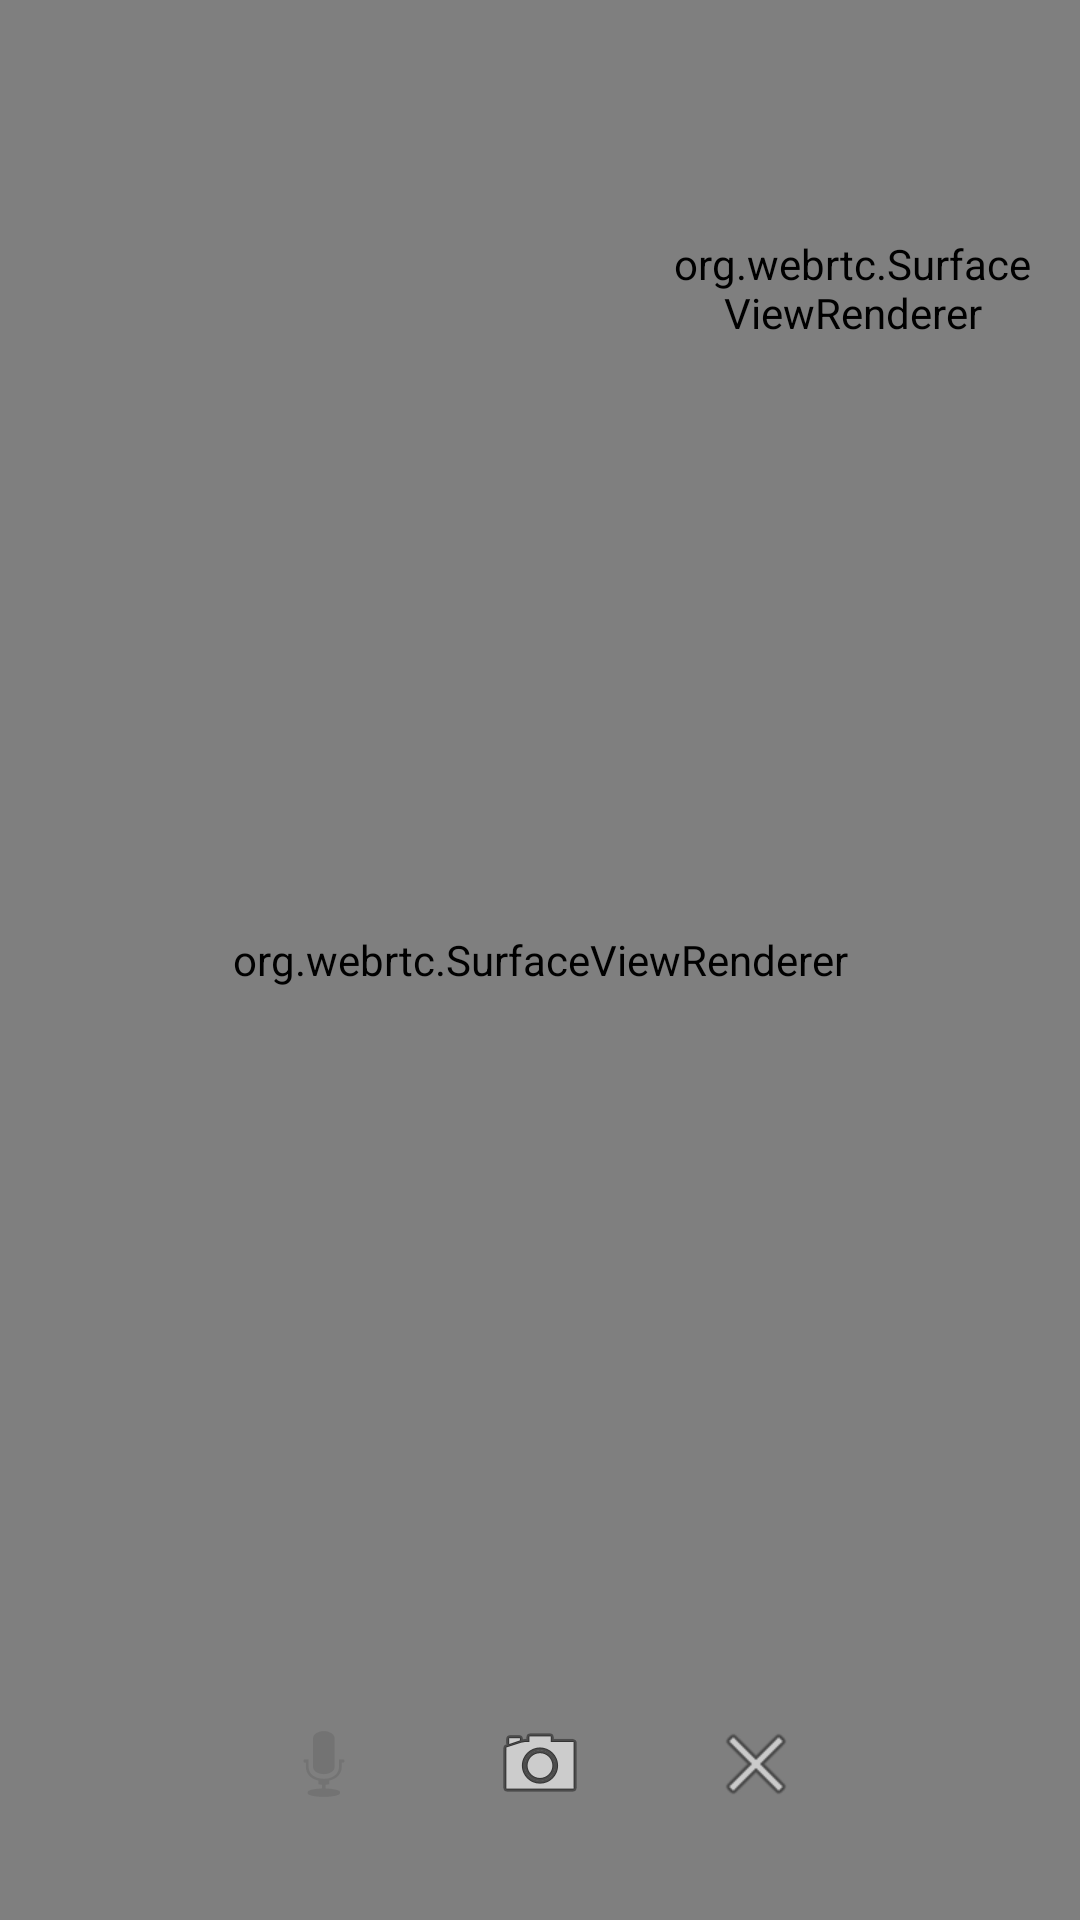

Named icons in this screenshot (1080px×1920px) and their bounding boxes, (x1, y1, x2, y2):
camera: (503, 1733, 577, 1792)
close clear cancel: (726, 1734, 786, 1794)
